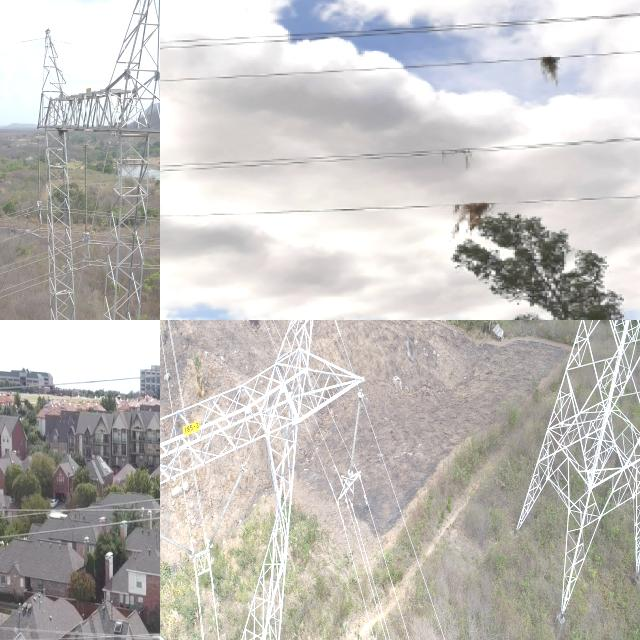杆塔: (160, 320, 363, 640), (25, 0, 160, 320), (510, 320, 640, 626)
植被遮挡: (533, 51, 570, 91)
正常绝缘子: (347, 385, 364, 481), (34, 131, 45, 236)
